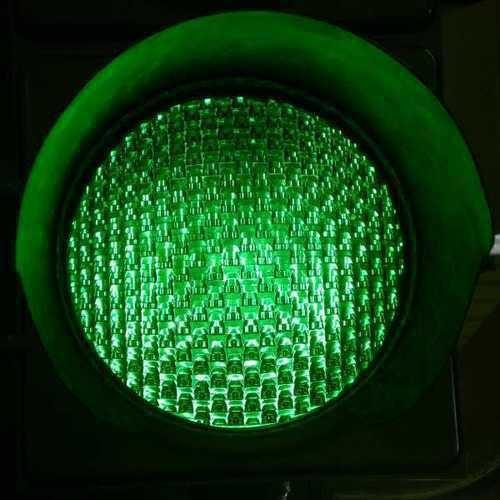red: (24, 23, 449, 466)
